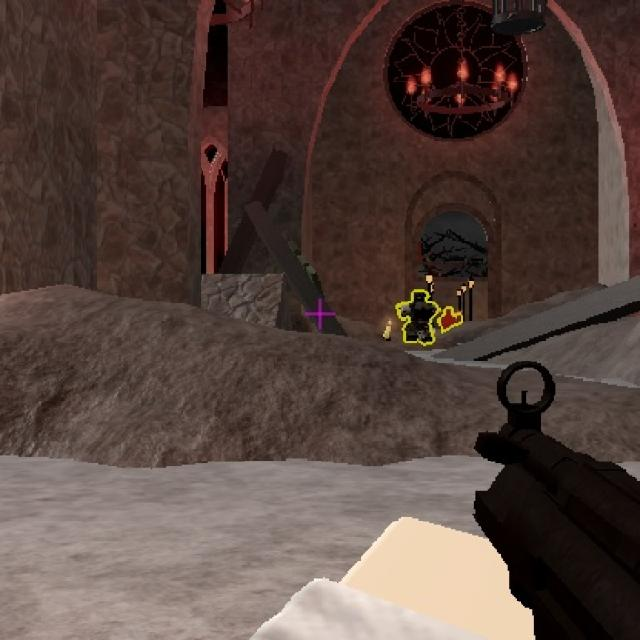player: (406, 286, 429, 346), (439, 299, 457, 333)
